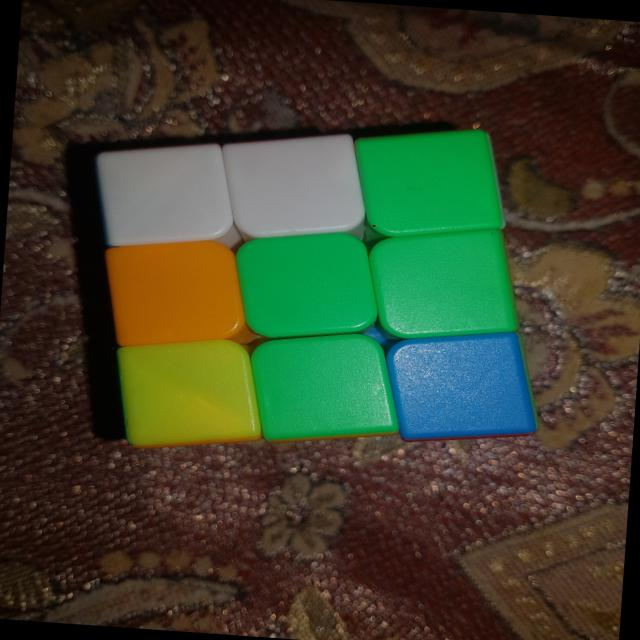general: (54, 97, 560, 477), (361, 218, 526, 346), (242, 325, 406, 452), (347, 119, 512, 244)
